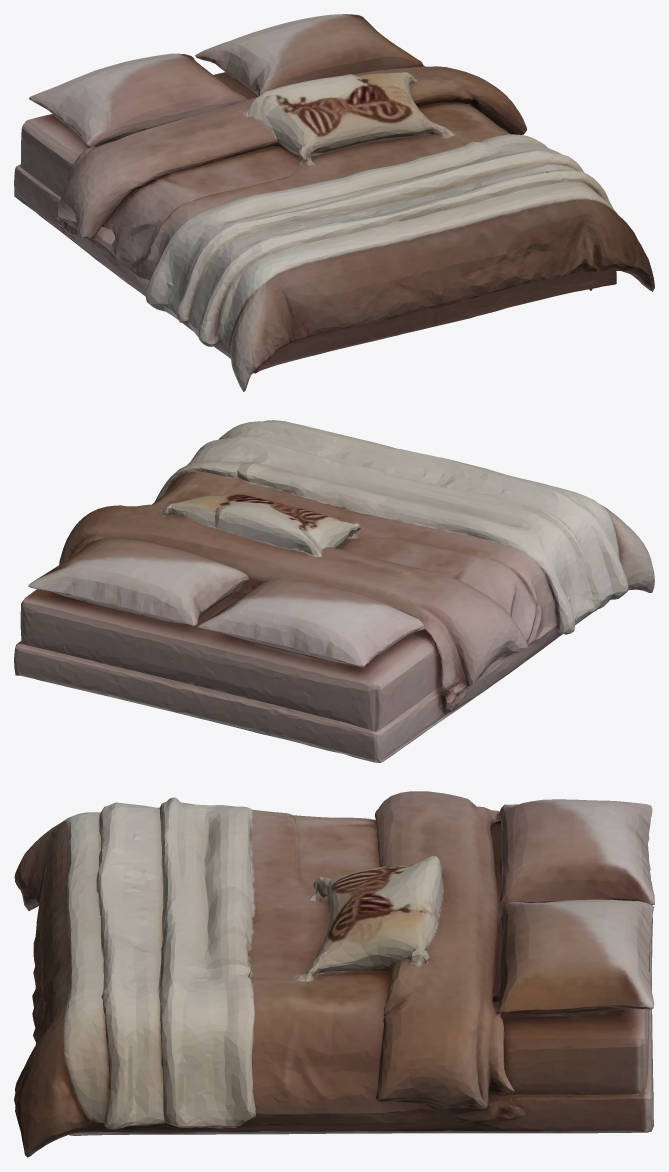
The model's file is ast_fba5d6140749.glb.
The picture shows the model from 3 angles, top to bottom: view 1: azimuth 30°, elevation 25°; view 2: azimuth 150°, elevation 25°; view 3: azimuth 270°, elevation 25°; orthographic projection. The views are drawn at different scales.
Parts seen in each view (by area): view 1: geometry_0; view 2: geometry_0; view 3: geometry_0.
Part boxes in pixels (x1,y1,x2,y2): geometry_0: (14,14,654,391); geometry_0: (14,420,654,762); geometry_0: (14,791,654,1157).
Bounding box in the file's own units: 0.9959 × 0.2964 × 0.9989.
1 material, 1 textured.
